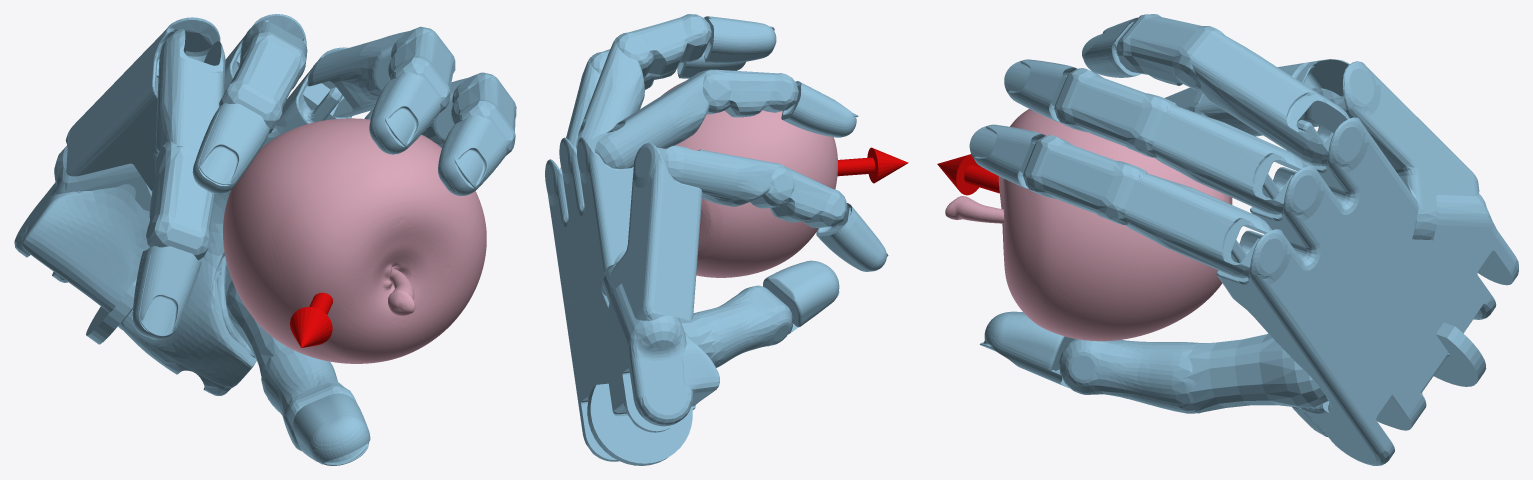
3 views of the same model, side by side, from view 1: azimuth 30°, elevation 25°; view 2: azimuth 150°, elevation 25°; view 3: azimuth 270°, elevation 25° (orthographic). The views are drawn at different scales.
Parts seen in each view (by area): view 1: world, apple.stl; view 2: world, apple.stl; view 3: world, apple.stl.
Part boxes in pixels (box(x1,y1,x2,y2)): world: box(14, 14, 516, 465); apple.stl: box(223, 118, 486, 363); world: box(545, 14, 908, 465); apple.stl: box(661, 82, 837, 277); world: box(937, 14, 1518, 465); apple.stl: box(945, 109, 1232, 341).
Bounding box in the file's own units: 0.1297 × 0.1412 × 0.178.
